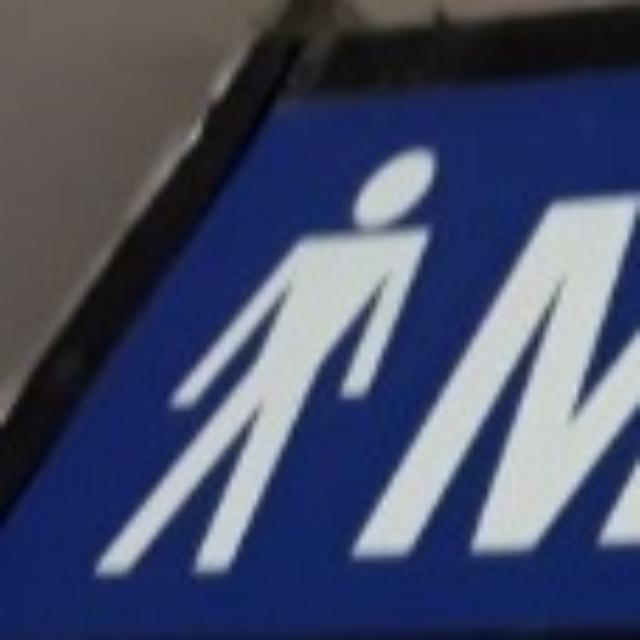wc nam: (0, 73, 634, 634)
